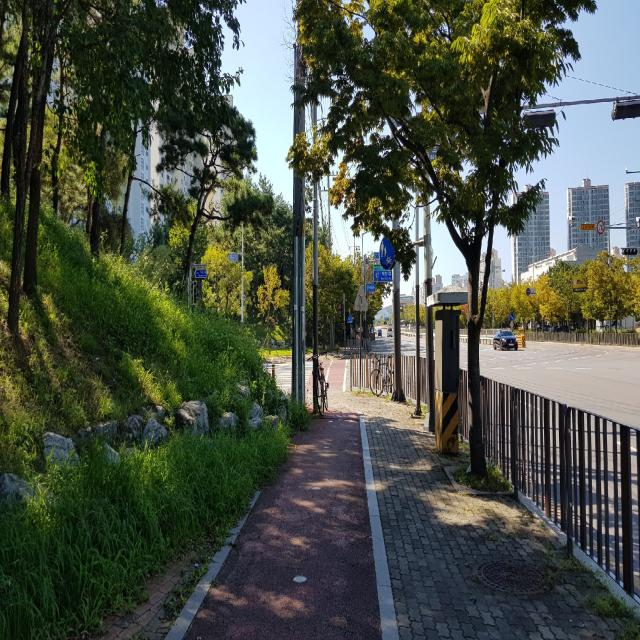횡단보도: (263, 362, 313, 398)
